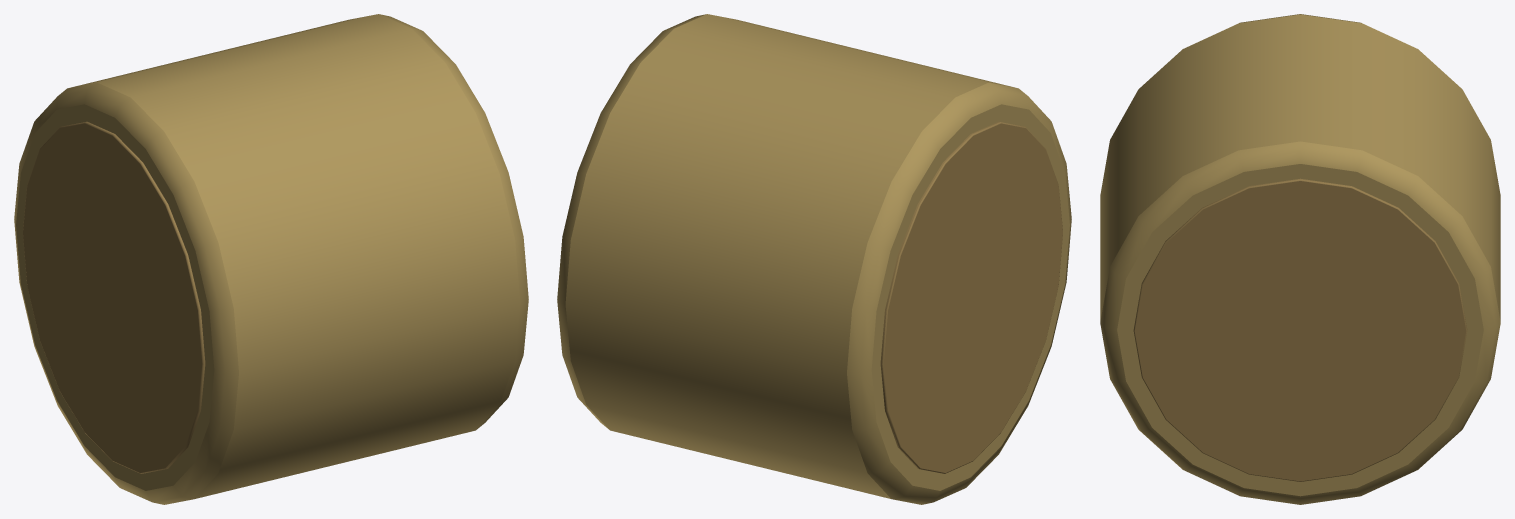
Rendered from Scenery_HayBale.fbx.
The picture shows the model from 3 angles, left to right: view 1: azimuth 30°, elevation 25°; view 2: azimuth 150°, elevation 25°; view 3: azimuth 270°, elevation 25°; orthographic projection. The views are drawn at different scales.
Parts seen in each view (by area): view 1: Scenery_HayBale_Mesh; view 2: Scenery_HayBale_Mesh; view 3: Scenery_HayBale_Mesh.
Part boxes in pixels (<box>): Scenery_HayBale_Mesh: <box>14,14,528,504</box>; Scenery_HayBale_Mesh: <box>557,14,1071,504</box>; Scenery_HayBale_Mesh: <box>1100,14,1500,504</box>.
Bounding box in the file's own units: 1.22 × 1.44 × 1.44.
